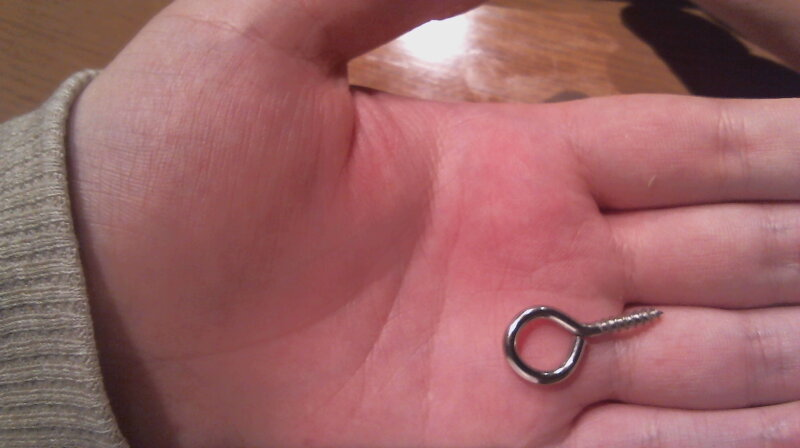O001: (498, 299, 667, 387)
